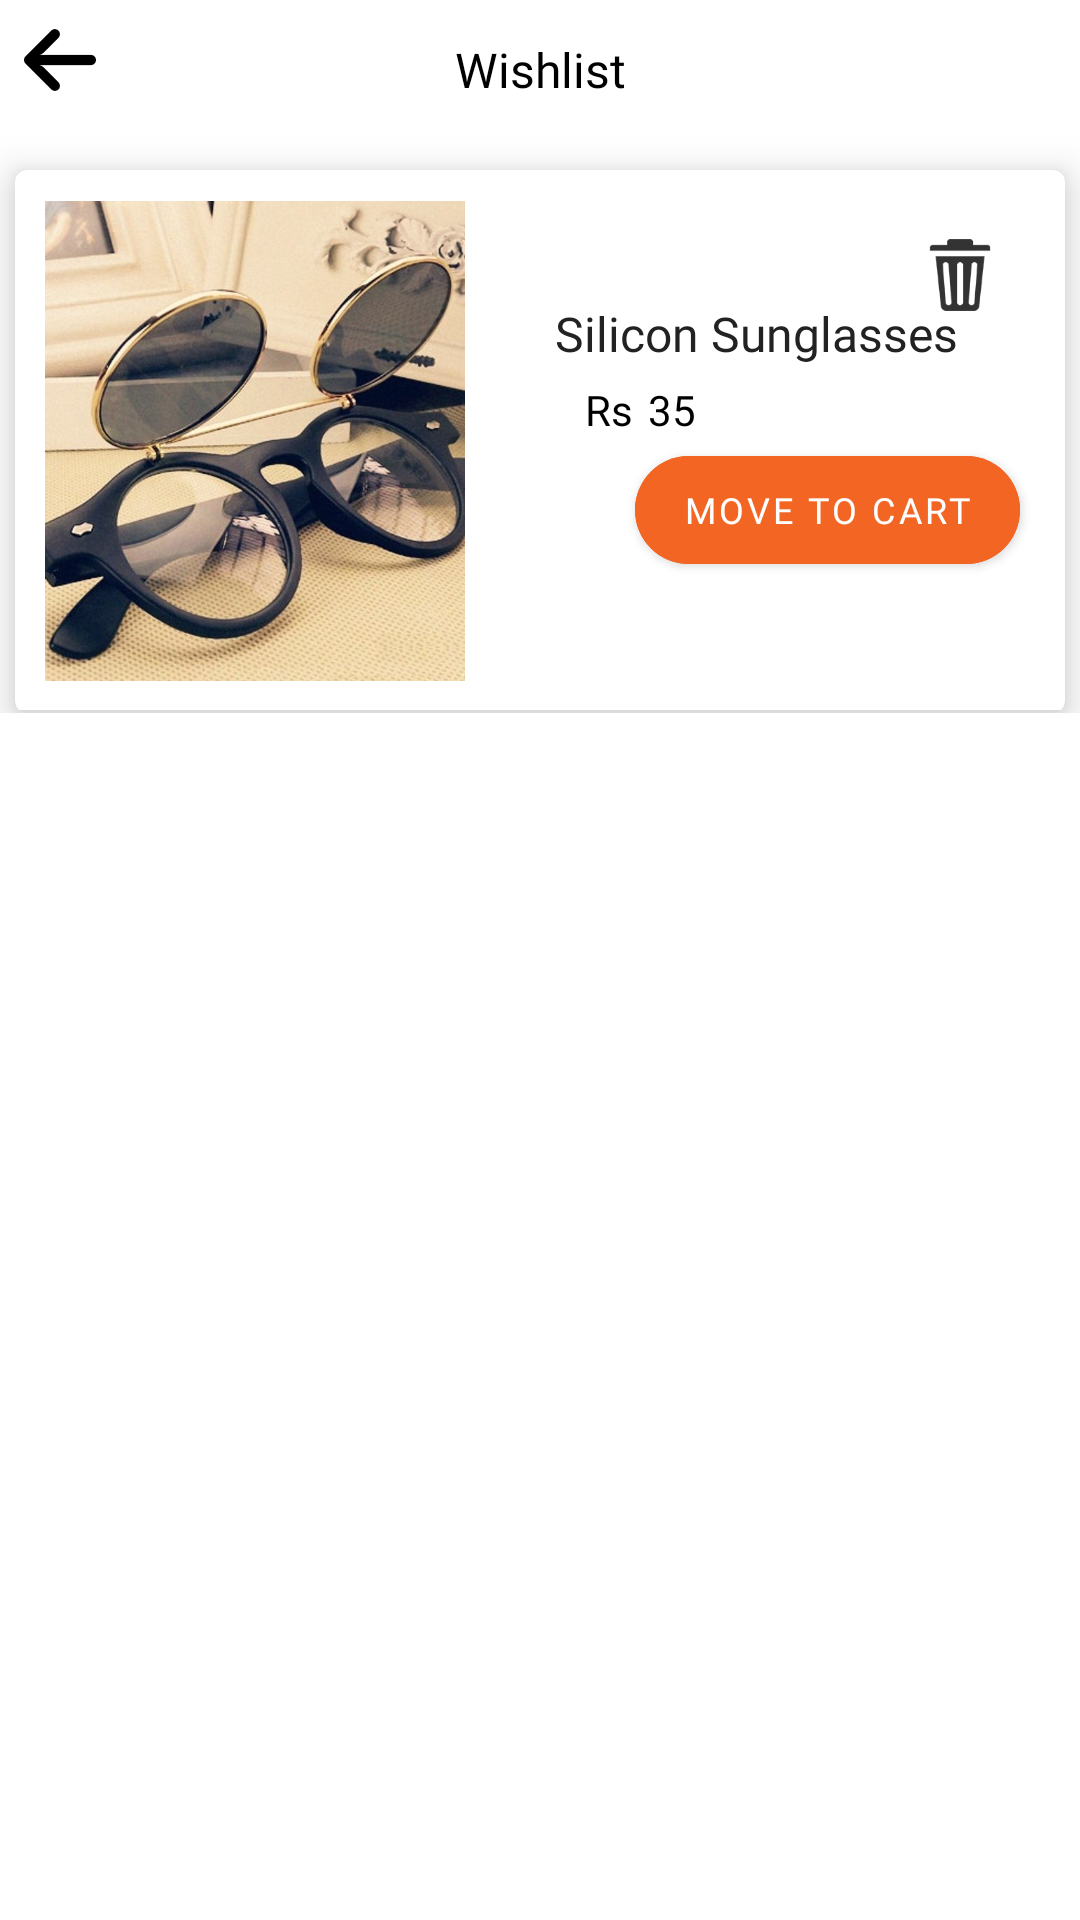

Where icons sit on this 1080 x 1920 app screen, as (x1, y1, x2, y2):
back: (24, 29, 96, 91)
delete: (930, 239, 991, 311)
